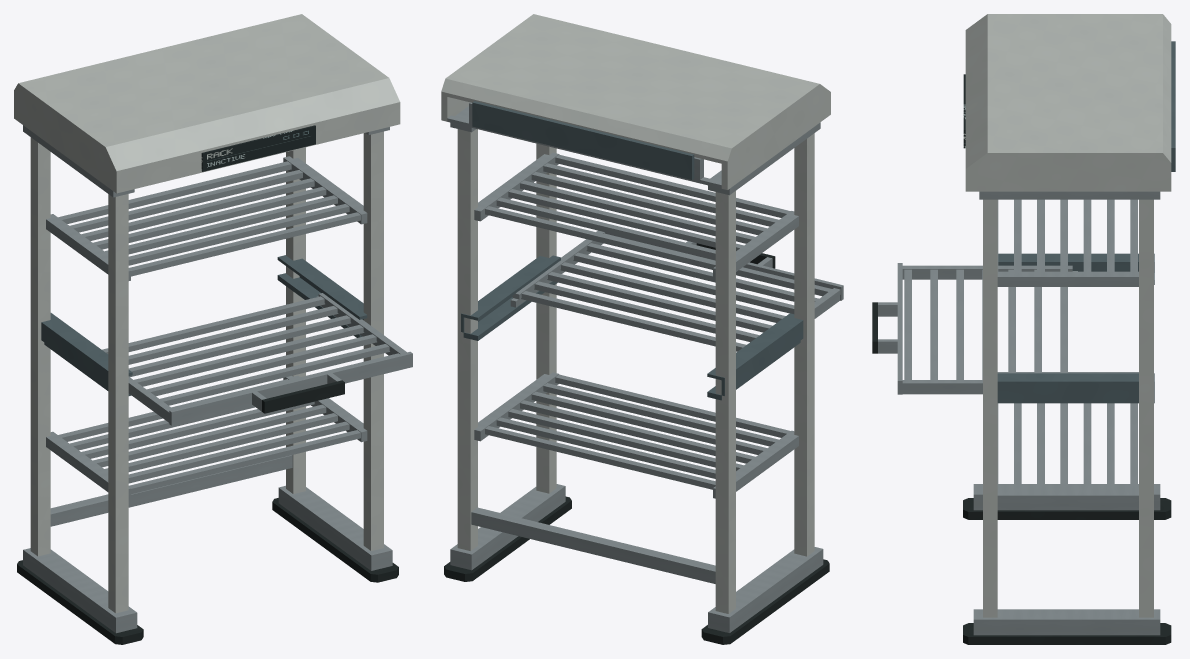
The model's file is AST-HSK-002_retrieval.glb.
3 views of the same model, side by side, from view 1: azimuth 30°, elevation 25°; view 2: azimuth 150°, elevation 25°; view 3: azimuth 270°, elevation 25° (orthographic).
Visible parts, largest first — view 1: AST-HSK-002__static__staff_white_paint, AST-HSK-002__static__staff_zinc, AST-HSK-002__MIDDLE_CARRIER_SLIDE__staff_zinc, AST-HSK-002__static__staff_bluegrey_paint, AST-HSK-002__static__staff_rubber, AST-HSK-002__static__rack_controls, AST-HSK-002__MIDDLE_CARRIER_SLIDE__staff_rubber; view 2: AST-HSK-002__static__staff_white_paint, AST-HSK-002__static__staff_zinc, AST-HSK-002__MIDDLE_CARRIER_SLIDE__staff_zinc, AST-HSK-002__HOOD_REAR_SERVICE__staff_bluegrey_paint, AST-HSK-002__static__staff_bluegrey_paint, AST-HSK-002__static__staff_rubber; view 3: AST-HSK-002__static__staff_white_paint, AST-HSK-002__static__staff_zinc, AST-HSK-002__MIDDLE_CARRIER_SLIDE__staff_zinc, AST-HSK-002__static__staff_bluegrey_paint, AST-HSK-002__static__staff_rubber, AST-HSK-002__HOOD_REAR_SERVICE__staff_bluegrey_paint.
Boxes of the visible parts, box(x1,y1,x2,y2) form: AST-HSK-002__static__staff_white_paint: box(14, 14, 400, 613); AST-HSK-002__static__staff_zinc: box(23, 125, 392, 633); AST-HSK-002__MIDDLE_CARRIER_SLIDE__staff_zinc: box(102, 293, 412, 425); AST-HSK-002__static__staff_bluegrey_paint: box(41, 255, 367, 395); AST-HSK-002__static__staff_rubber: box(17, 498, 398, 644); AST-HSK-002__static__rack_controls: box(201, 125, 315, 171); AST-HSK-002__MIDDLE_CARRIER_SLIDE__staff_rubber: box(262, 380, 344, 413); AST-HSK-002__static__staff_white_paint: box(441, 14, 830, 613); AST-HSK-002__static__staff_zinc: box(447, 102, 823, 632); AST-HSK-002__MIDDLE_CARRIER_SLIDE__staff_zinc: box(510, 230, 843, 351); AST-HSK-002__HOOD_REAR_SERVICE__staff_bluegrey_paint: box(472, 101, 694, 179); AST-HSK-002__static__staff_bluegrey_paint: box(461, 255, 803, 400); AST-HSK-002__static__staff_rubber: box(444, 496, 829, 644); AST-HSK-002__static__staff_white_paint: box(965, 14, 1171, 617); AST-HSK-002__static__staff_zinc: box(973, 191, 1160, 635); AST-HSK-002__MIDDLE_CARRIER_SLIDE__staff_zinc: box(878, 263, 1077, 394); AST-HSK-002__static__staff_bluegrey_paint: box(997, 253, 1154, 403); AST-HSK-002__static__staff_rubber: box(963, 498, 1171, 644); AST-HSK-002__HOOD_REAR_SERVICE__staff_bluegrey_paint: box(1171, 41, 1175, 171).
Bounding box in the file's own units: 1.2 × 1.98 × 1.11.
5 materials, 5 textured.
